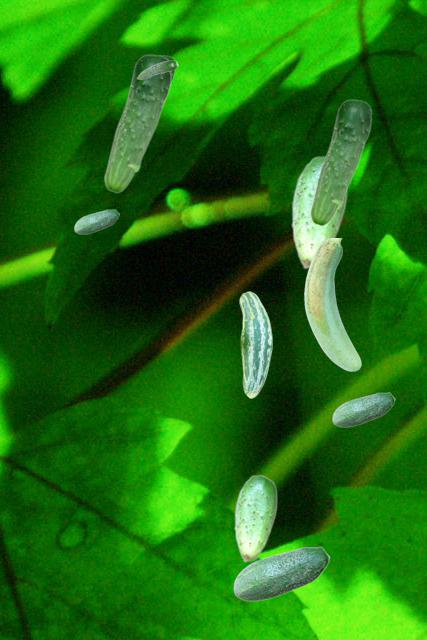cucumber: (103, 54, 171, 192), (309, 99, 371, 225), (304, 238, 360, 370), (291, 155, 346, 268), (233, 546, 329, 600), (234, 474, 276, 561), (239, 291, 271, 397), (332, 392, 394, 426), (74, 209, 118, 233), (137, 60, 177, 78), (163, 55, 174, 82)
